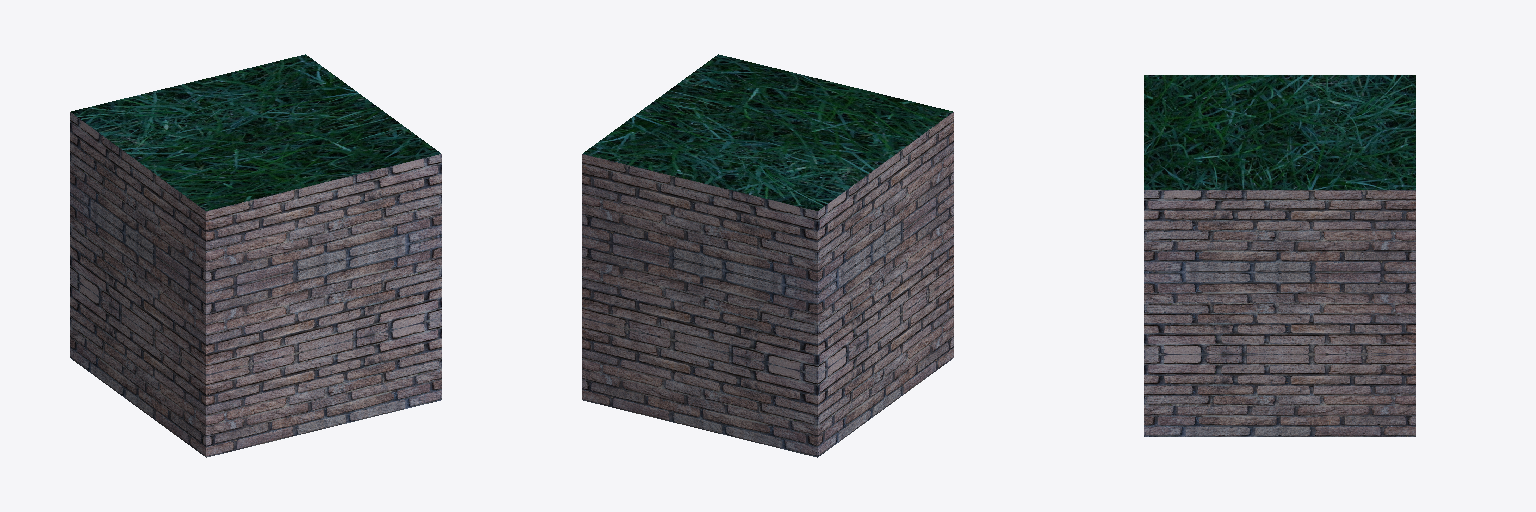
3 views of the same model, side by side, from view 1: azimuth 30°, elevation 25°; view 2: azimuth 150°, elevation 25°; view 3: azimuth 270°, elevation 25° (orthographic).
Parts seen in each view (by area): view 1: Cube; view 2: Cube; view 3: Cube.
Part boxes in pixels (left/top/right/bottom): Cube: left=70, top=54, right=441, bottom=457; Cube: left=582, top=54, right=953, bottom=457; Cube: left=1144, top=75, right=1415, bottom=436.
Bounding box in the file's own units: 1 × 1 × 1.
3 materials, 2 textured.